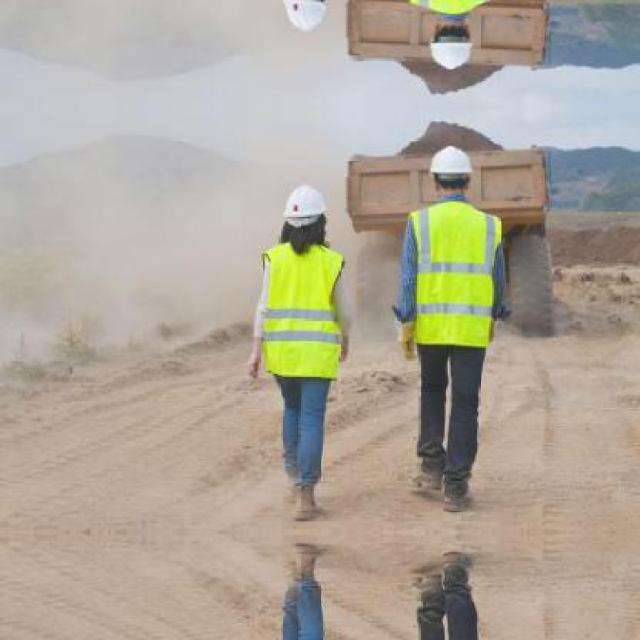helmet: (284, 174, 325, 243), (428, 140, 474, 195), (428, 17, 474, 72), (283, 0, 326, 38)
